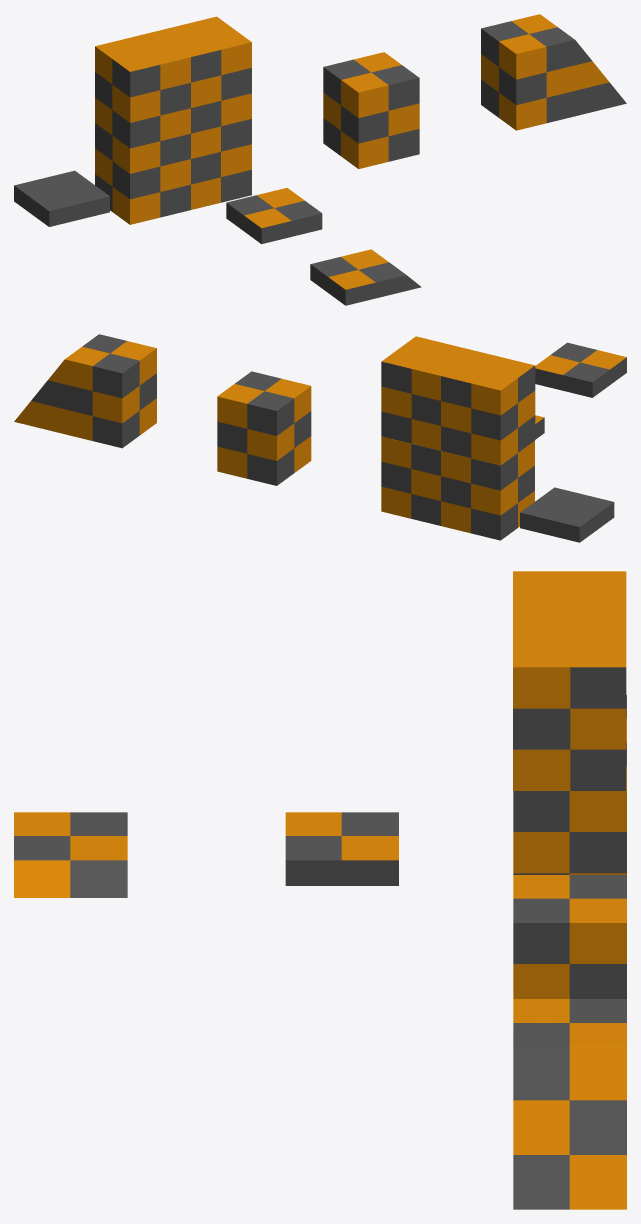
File: level design assets.gltf
3 renders of one model, top to bottom at view 1: azimuth 30°, elevation 25°; view 2: azimuth 150°, elevation 25°; view 3: azimuth 270°, elevation 25°, orthographic. The views are drawn at different scales.
Visible parts, largest first — view 1: Cube.004, Cube.006, Cube.005, Cube.003, Cube.002, Cube.001; view 2: Cube.004, Cube.006, Cube.005, Cube.001, Cube.003; view 3: Cube.004, Cube.006, Cube.005, Cube.003, Cube.002.
Part boxes in pixels (left/top/right/bottom): Cube.004: left=95, top=16, right=251, bottom=224; Cube.006: left=481, top=14, right=626, bottom=130; Cube.005: left=323, top=52, right=419, bottom=168; Cube.003: left=310, top=249, right=421, bottom=305; Cube.002: left=226, top=188, right=322, bottom=244; Cube.001: left=14, top=170, right=109, bottom=226; Cube.004: left=381, top=336, right=535, bottom=540; Cube.006: left=14, top=334, right=156, bottom=448; Cube.005: left=217, top=371, right=311, bottom=485; Cube.001: left=520, top=487, right=614, bottom=542; Cube.003: left=535, top=342, right=626, bottom=397; Cube.004: left=513, top=571, right=626, bottom=874; Cube.006: left=513, top=999, right=626, bottom=1209; Cube.005: left=513, top=875, right=626, bottom=998; Cube.003: left=14, top=812, right=127, bottom=897; Cube.002: left=285, top=812, right=398, bottom=885.
Bounding box in the file's own units: 47.4 × 12 × 26.99.
